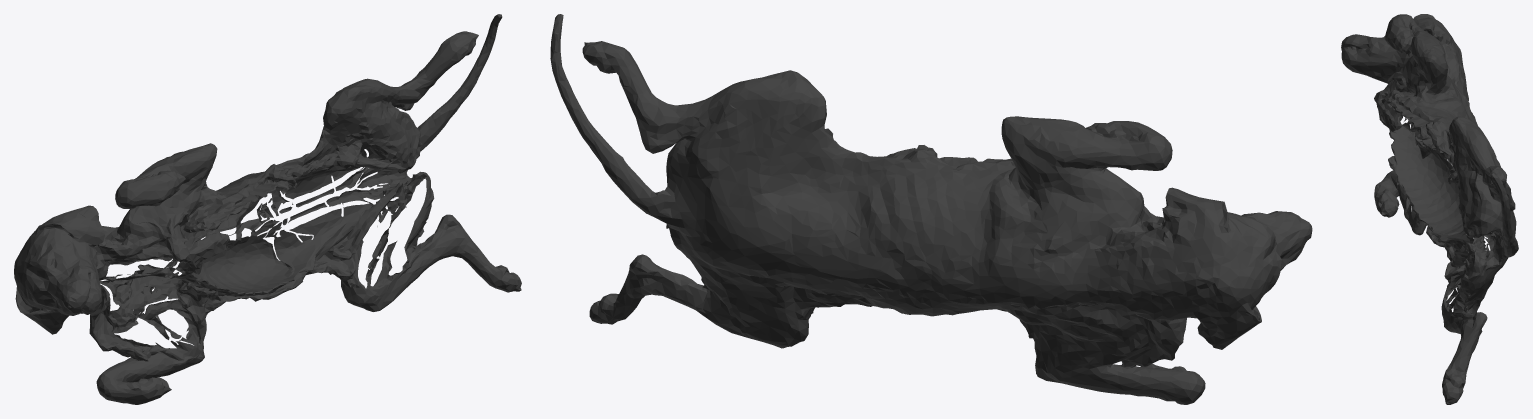
File: Blocker_mesh_Blocker_mesh.glb
The picture shows the model from 3 angles, left to right: view 1: azimuth 30°, elevation 25°; view 2: azimuth 150°, elevation 25°; view 3: azimuth 270°, elevation 25°; orthographic projection. The views are drawn at different scales.
Visible parts, largest first — view 1: Blocker_mesh_Blocker_mesh; view 2: Blocker_mesh_Blocker_mesh; view 3: Blocker_mesh_Blocker_mesh.
Boxes of the visible parts, x1,y1,x2,y2 form: Blocker_mesh_Blocker_mesh: (14,14,521,404); Blocker_mesh_Blocker_mesh: (550,14,1312,404); Blocker_mesh_Blocker_mesh: (1341,14,1518,404).
Bounding box in the file's own units: 0.4766 × 0.2261 × 0.1554.
Materials: 1 (1 with a texture image).
